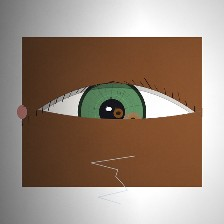foreign_body_visible: (116, 108, 150, 134)
